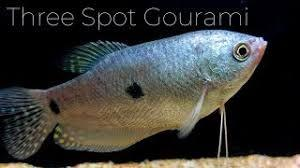Gourami: (1, 28, 269, 159)
